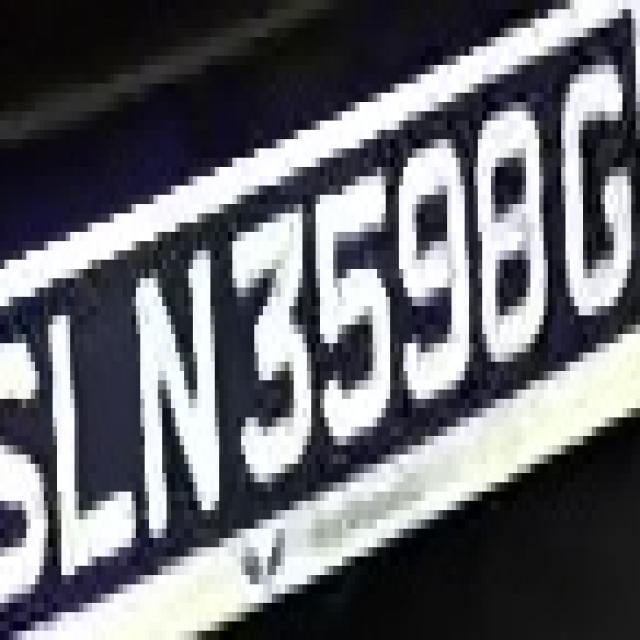3: (228, 195, 311, 510)
5: (307, 148, 394, 473)
8: (465, 93, 552, 408)
9: (390, 111, 478, 427)
G: (552, 37, 627, 334)
L: (44, 260, 144, 575)
N: (118, 213, 228, 529)
S: (4, 278, 57, 622)
